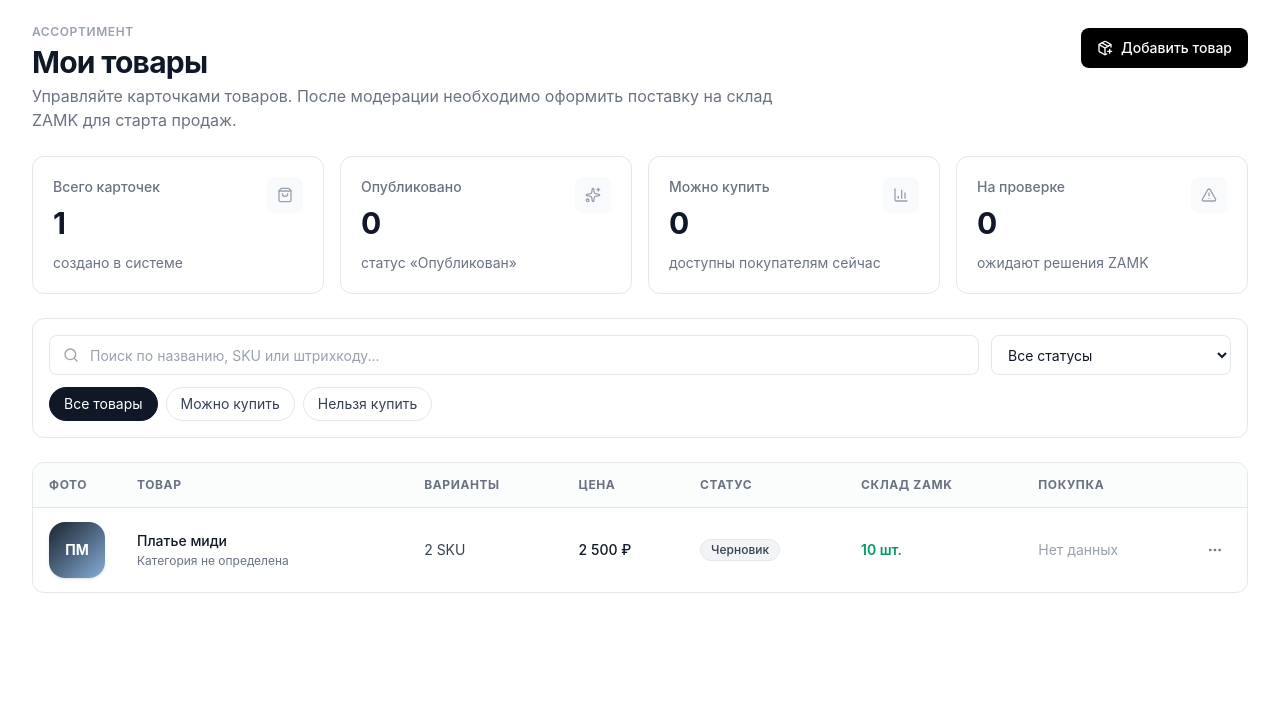
it: SELLER ASSORTMENT.1C2 - Lifecycle Actions UI & Safety Matrix › Delete Draft Flow & Invariants › N: product_not_disposable keeps row and drawer, shows seller message
Open drawer
Step 1. Click the text "Платье миди" → (182, 540), box x1=137 y1=532 x2=227 y2=549
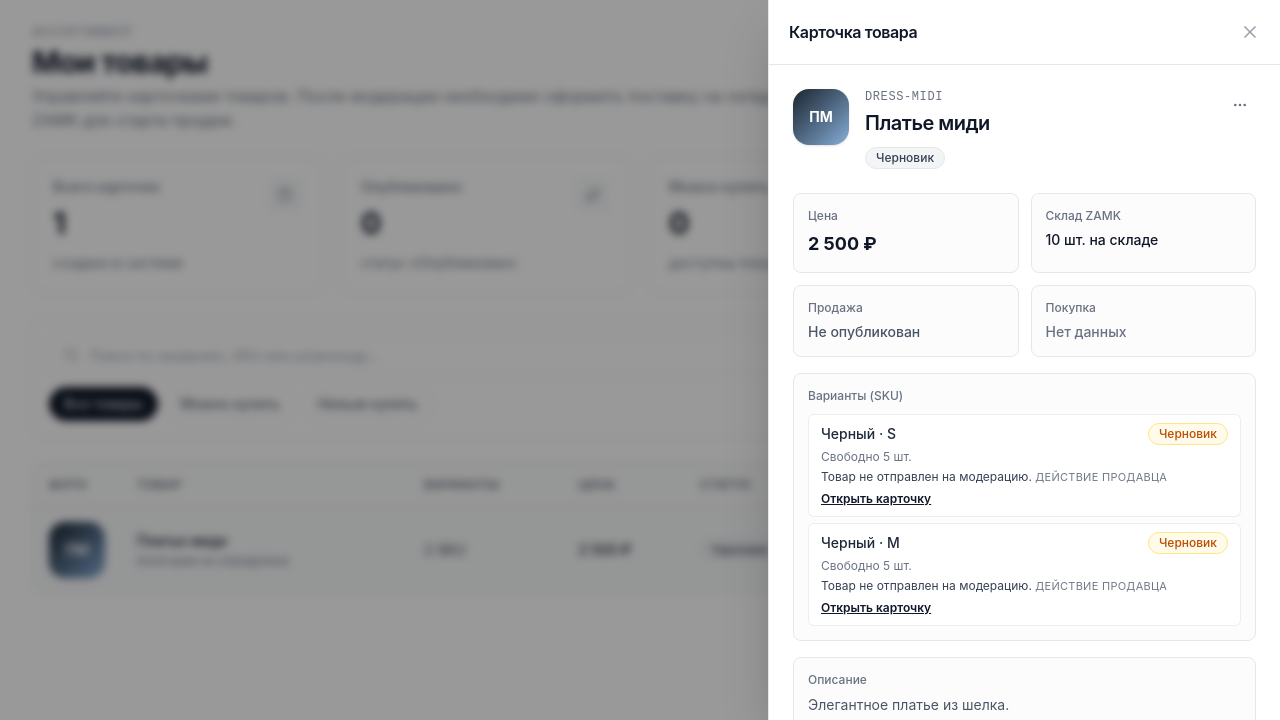
Expected: the element with test id "seller-product-drawer" is shown
Attempt delete from drawer
Step 2. Click the button with test id "drawer-actions-menu-btn" → (1240, 105), box x1=1224 y1=89 x2=1256 y2=121
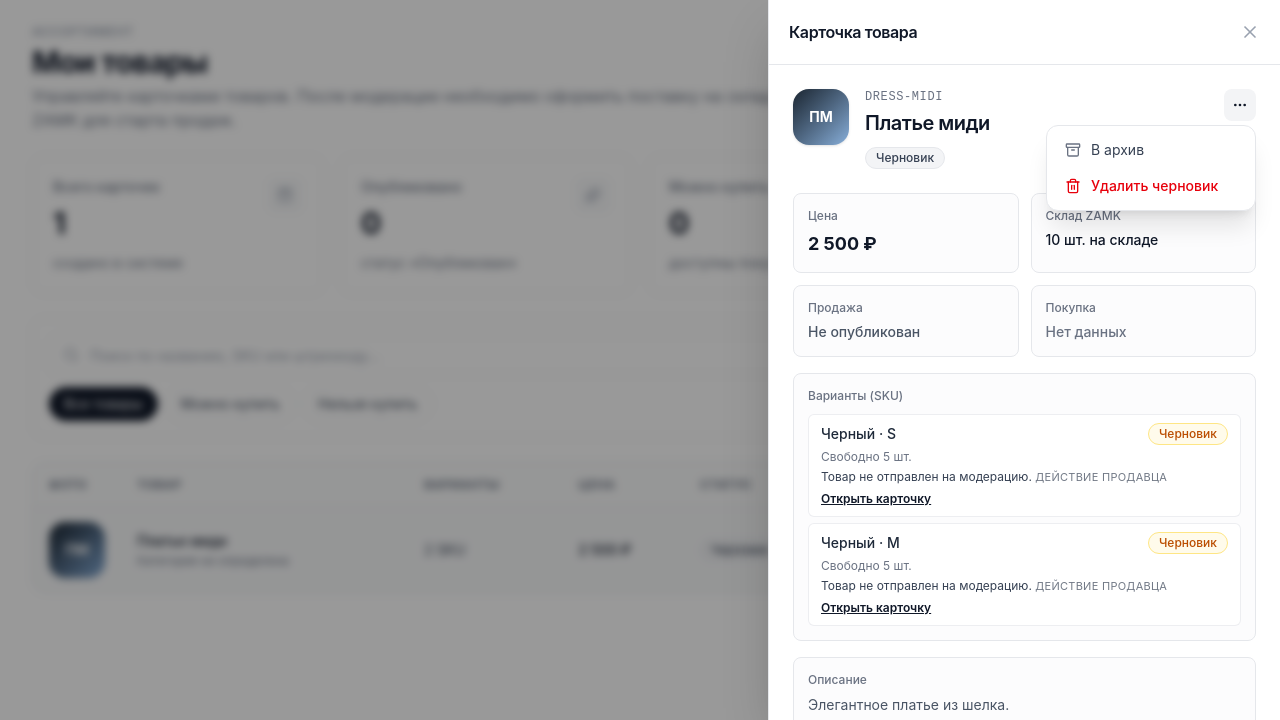
Step 3. Click the menu item "Удалить черновик" → (1151, 186), box x1=1053 y1=168 x2=1249 y2=204
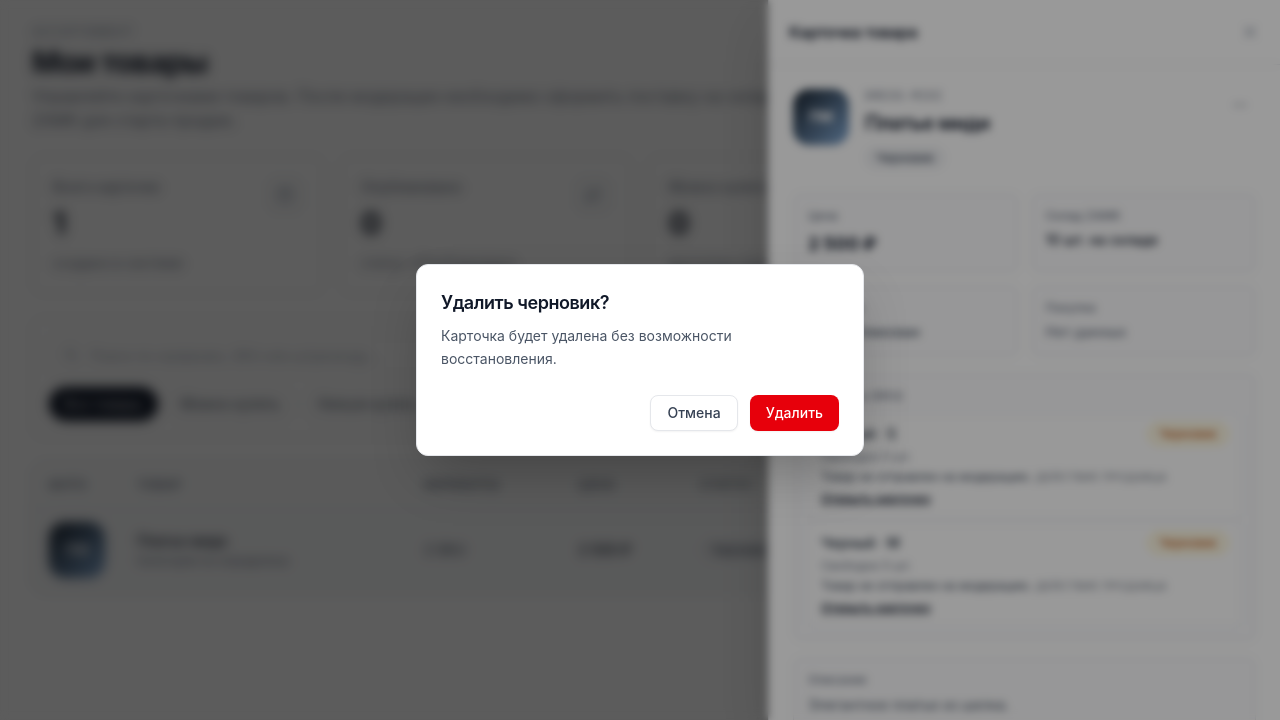
Step 4. Click the button with test id "confirm-delete-btn" → (794, 413), box x1=750 y1=395 x2=839 y2=431
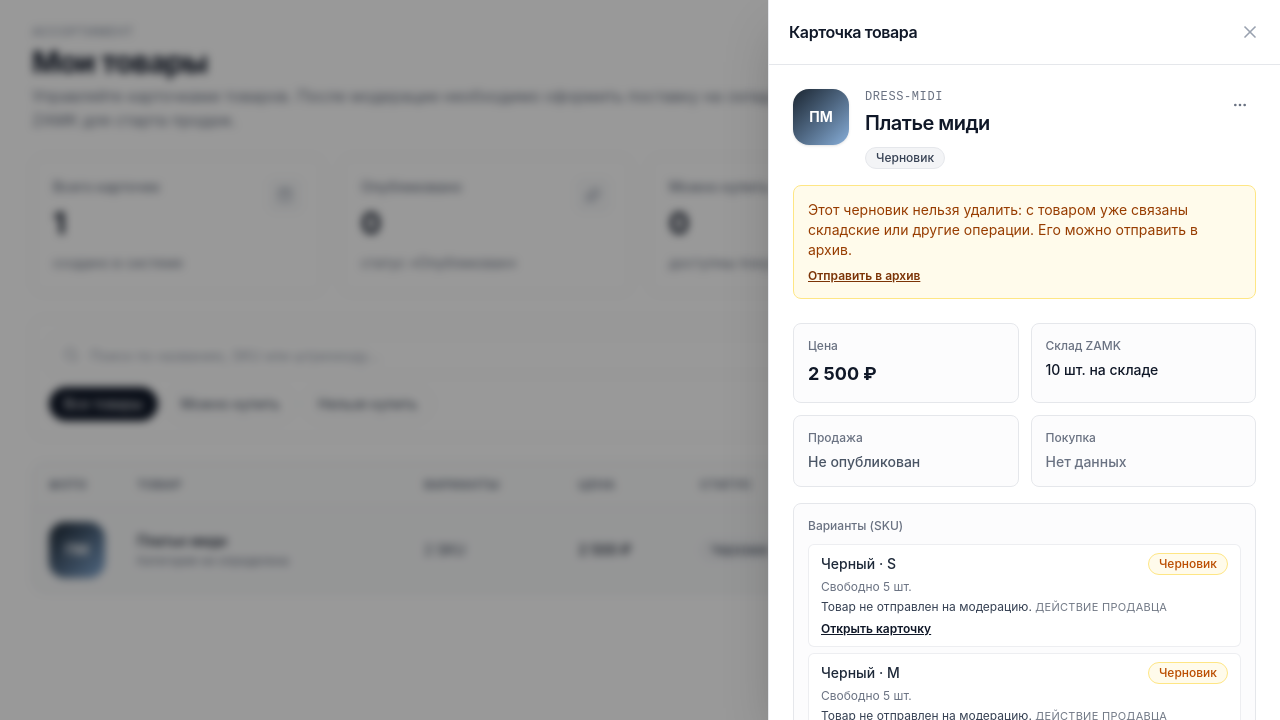
Expected: the element with test id "seller-product-drawer" is shown
Expected: the text "Этот черновик нельзя удалить: с товаром уже связаны складские или другие операции. Его можно отправить в архив." is shown, x1=808 y1=201 x2=1198 y2=258
Expected: the button with test id "lifecycle-error-archive-cta" is shown, x1=808 y1=268 x2=920 y2=284
